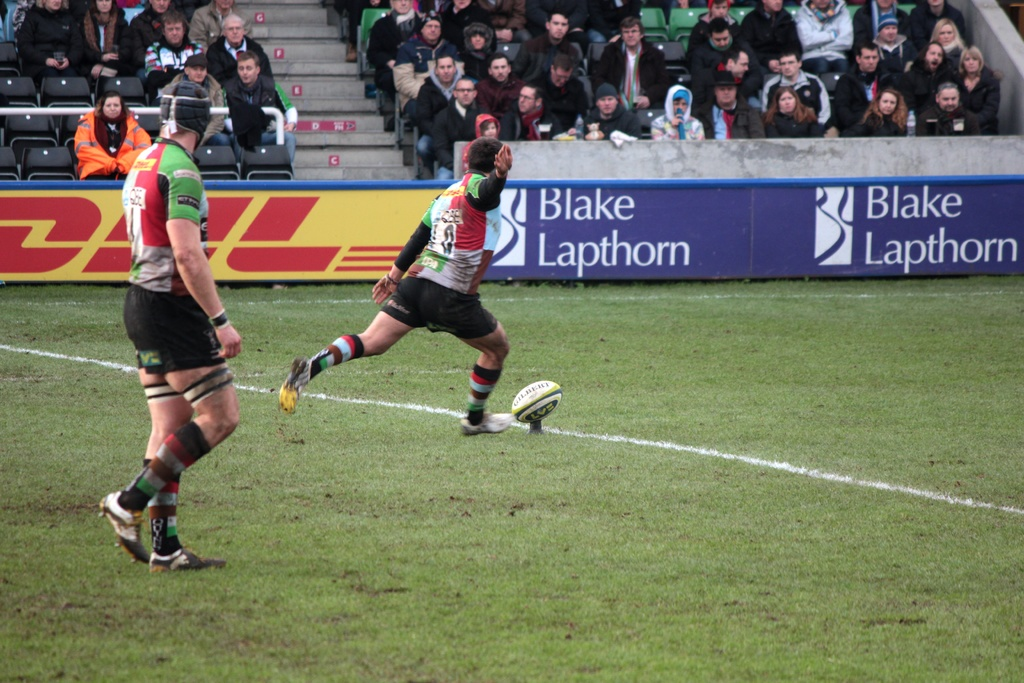Ball: (508, 378, 567, 423)
